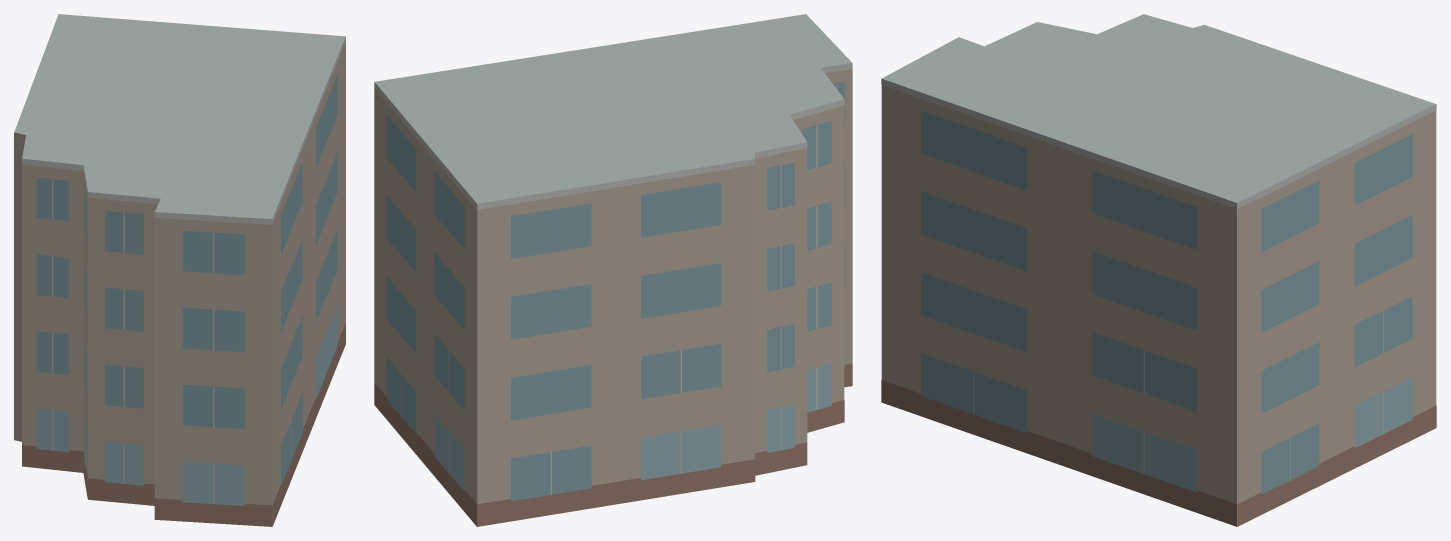
The model's file is survey-upis-32538778.glb.
3 renders of one model, left to right at view 1: azimuth 30°, elevation 25°; view 2: azimuth 150°, elevation 25°; view 3: azimuth 270°, elevation 25°, orthographic. The views are drawn at different scales.
Parts seen in each view (by area): view 1: survey-upis-32538778.tmp; view 2: survey-upis-32538778.tmp; view 3: survey-upis-32538778.tmp.
Part boxes in pixels (left/top/right/bottom): survey-upis-32538778.tmp: left=14, top=14, right=345, bottom=526; survey-upis-32538778.tmp: left=374, top=14, right=852, bottom=526; survey-upis-32538778.tmp: left=881, top=14, right=1436, bottom=526.
Bounding box in the file's own units: 16.03 × 12.8 × 19.89.
